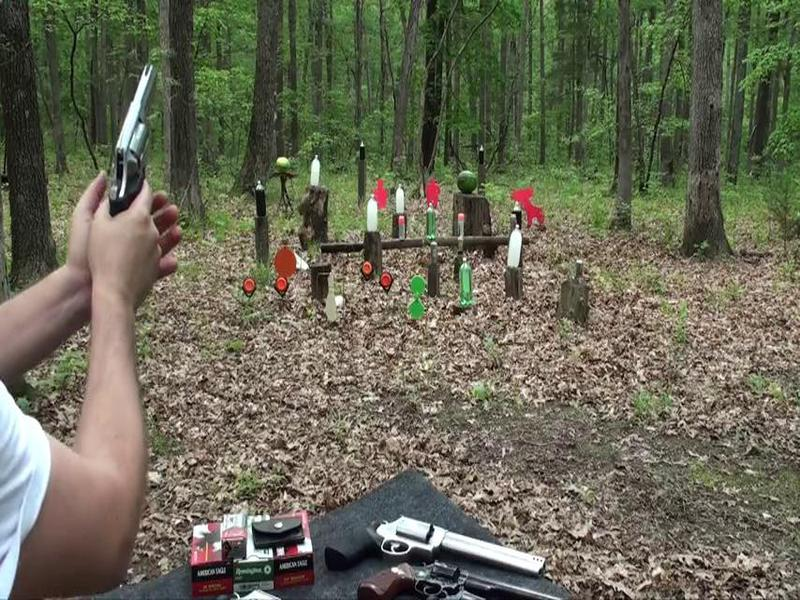Revolver: (94, 55, 174, 247)
